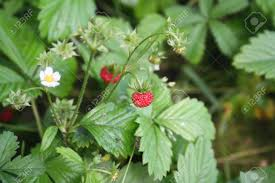Fresa: (130, 86, 157, 112), (100, 63, 123, 85)
